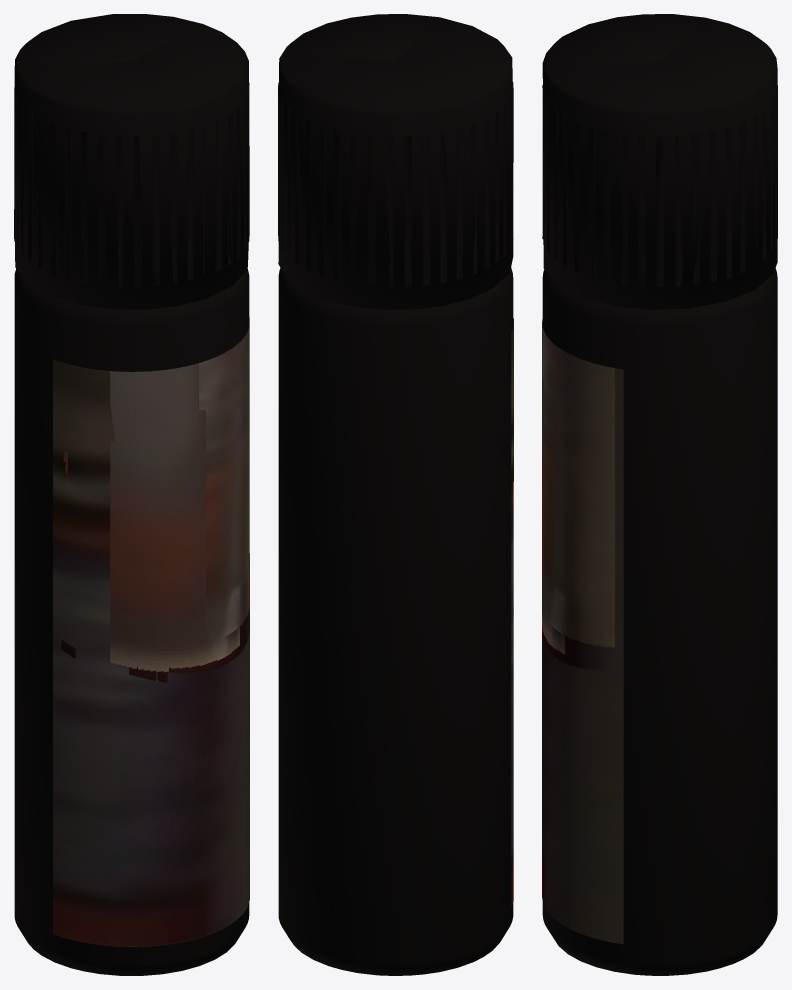
3 views of the same model, side by side, from view 1: azimuth 30°, elevation 25°; view 2: azimuth 150°, elevation 25°; view 3: azimuth 270°, elevation 25° (orthographic).
Parts seen in each view (by area): view 1: dark_pantry_canister__body, dark_pantry_canister__cap; view 2: dark_pantry_canister__body, dark_pantry_canister__cap; view 3: dark_pantry_canister__body, dark_pantry_canister__cap.
Part boxes in pixels (x1,y1,x2,y2): dark_pantry_canister__body: (14,269,249,975); dark_pantry_canister__cap: (14,14,249,309); dark_pantry_canister__body: (278,267,513,975); dark_pantry_canister__cap: (278,14,513,309); dark_pantry_canister__body: (542,268,777,975); dark_pantry_canister__cap: (542,14,777,309).
Bounding box in the file's own units: 0.0416 × 0.1693 × 0.0417.
Materials: 3 (1 with a texture image).
